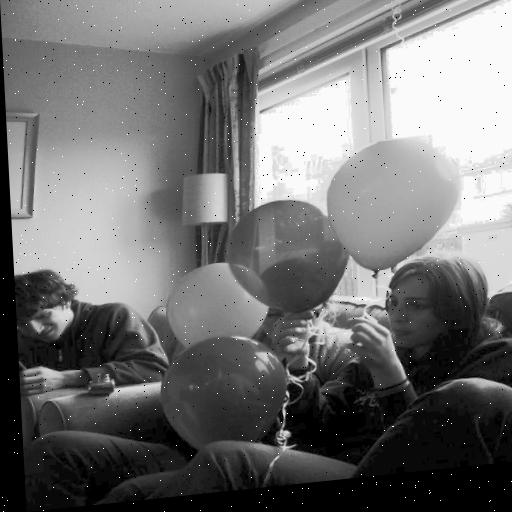balloon: (325, 132, 464, 276), (160, 331, 293, 462), (224, 193, 356, 319), (164, 254, 271, 347)
